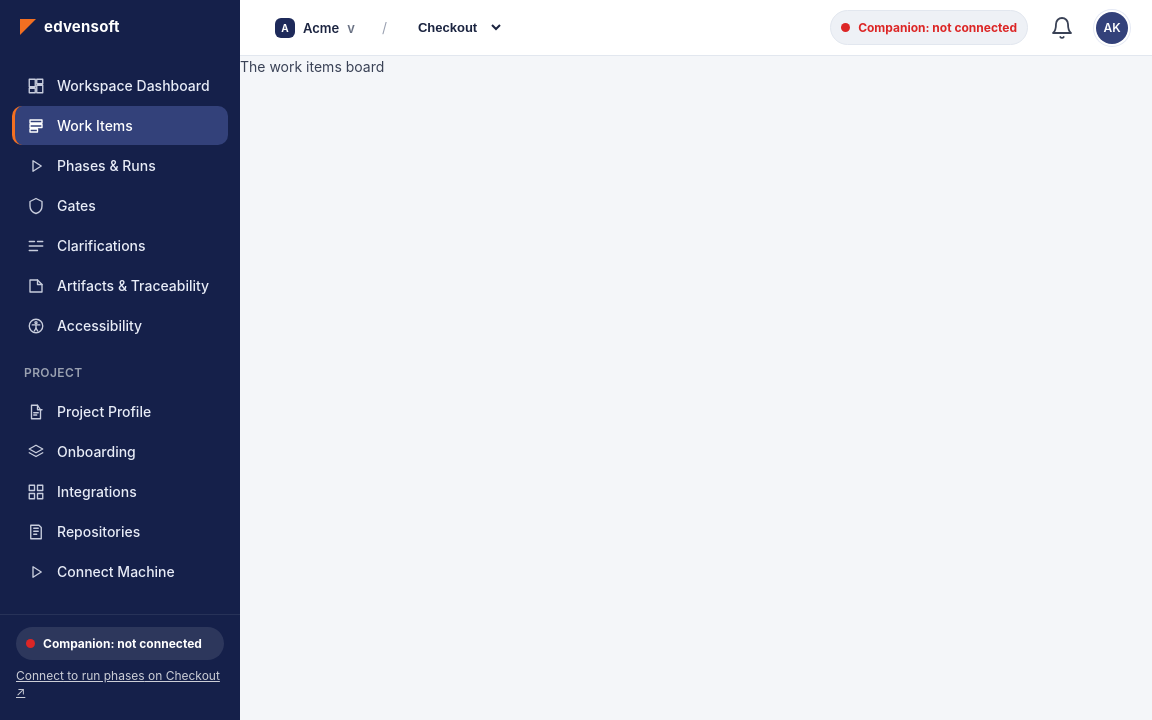
Scenario: the bell (N2) › still opens at zero, where the queue says you are all caught up
Click the button named "Notifications, 0 unread": (1062, 28) [1044,10,1080,46]
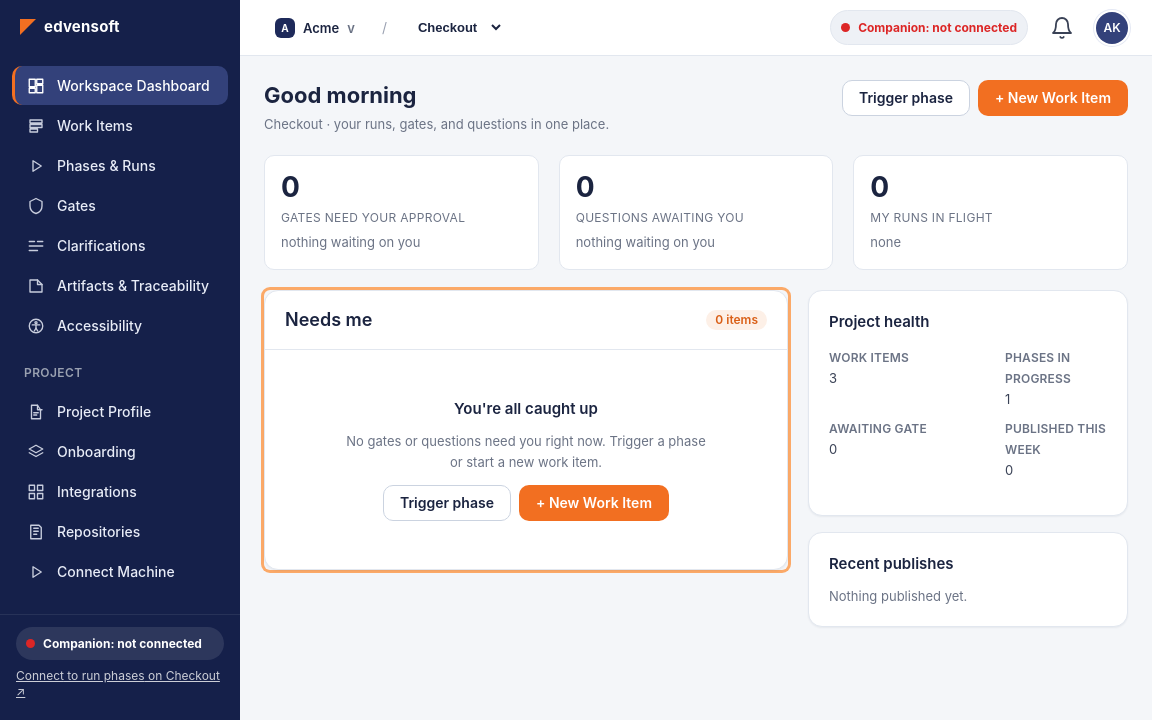
Expected: the text "You're all caught up" is shown, [454,398,598,419]
